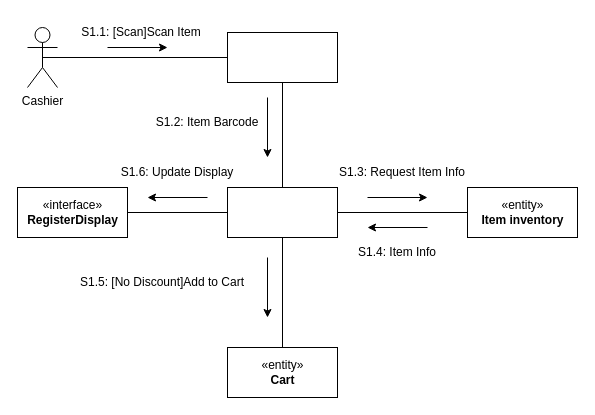
This 595x415 diagram has some shape labels left out. Here are the shapes that lost their labels. From the top down, the box of each, then its label:
(226, 32, 338, 82): «interface» CashierInterface
(226, 186, 338, 238): «control» ScanControl
